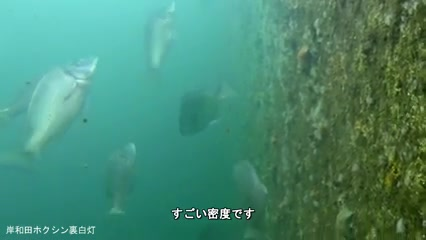kurodai: (3, 49, 107, 168), (101, 142, 142, 220)
